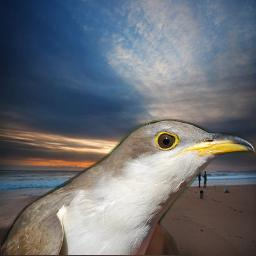Cuckoo: (1, 119, 255, 255)
